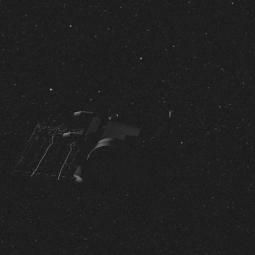proba_3_csc: (12, 94, 190, 185)
